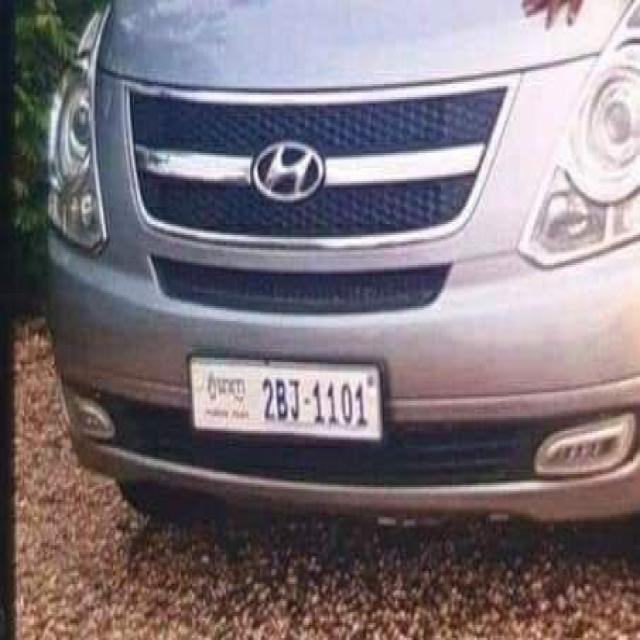Phnom_Penh: (208, 371, 247, 406)
